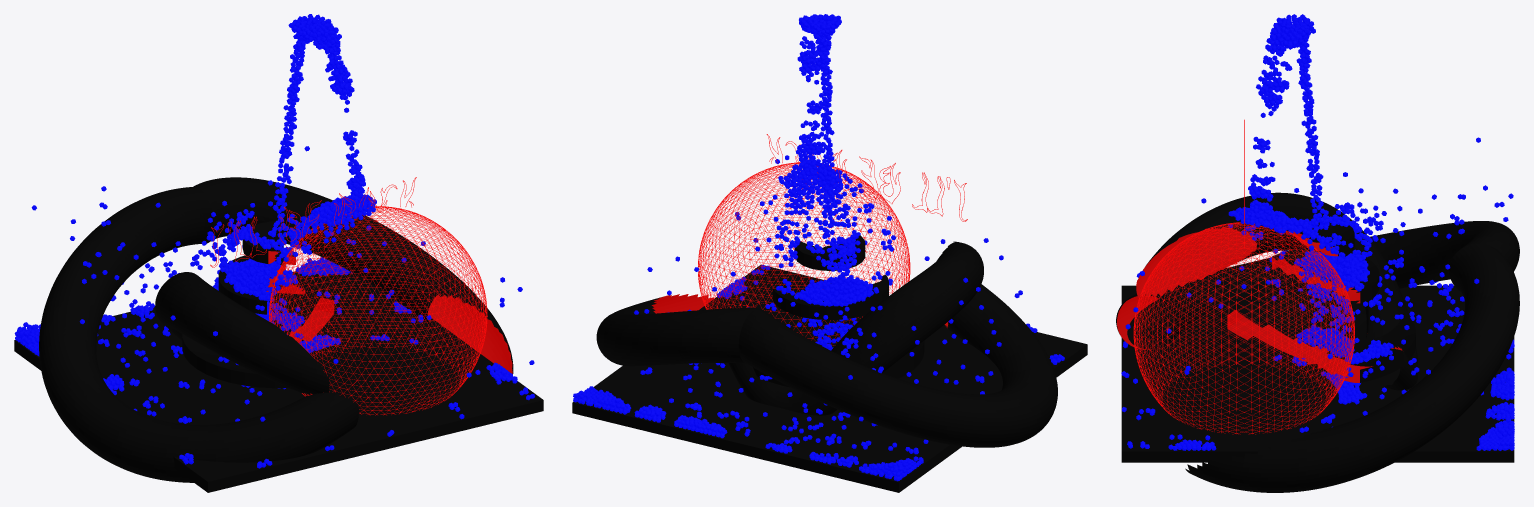
File: I'll be back.glb
3 views of the same model, side by side, from view 1: azimuth 30°, elevation 25°; view 2: azimuth 150°, elevation 25°; view 3: azimuth 270°, elevation 25° (orthographic). The views are drawn at different scales.
Size of the model in its own units: 20 by 17.63 by 16.44.
